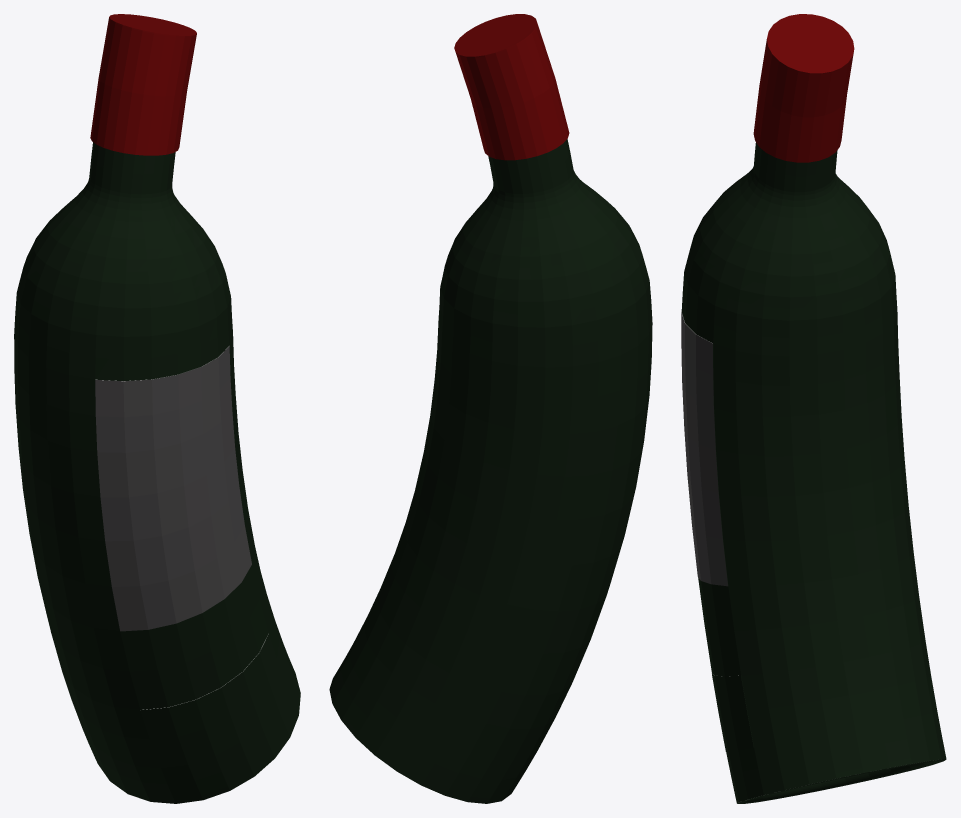
Rendered from bend_medium_1.obj.
3 views of the same model, side by side, from view 1: azimuth 30°, elevation 25°; view 2: azimuth 150°, elevation 25°; view 3: azimuth 270°, elevation 25° (orthographic). The views are drawn at different scales.
Visible parts, largest first — view 1: model; view 2: model; view 3: model.
Part boxes in pixels (x1=…): model: x1=14, y1=14, x2=300, y2=803; model: x1=329, y1=14, x2=652, y2=803; model: x1=681, y1=14, x2=946, y2=803.
Size of the model in its own units: 0.0978 by 0.2619 by 0.0818.
1 material, 1 textured.
